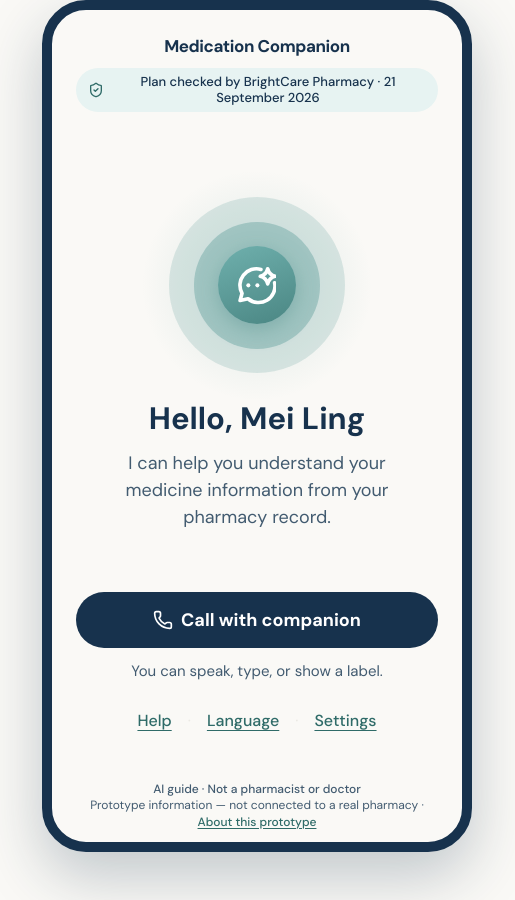
Test: in-call flow › 'I take it twice a day' asks which medicine — it never assumes
Click the button "Call with companion": [257, 620] box [76,592,438,648]
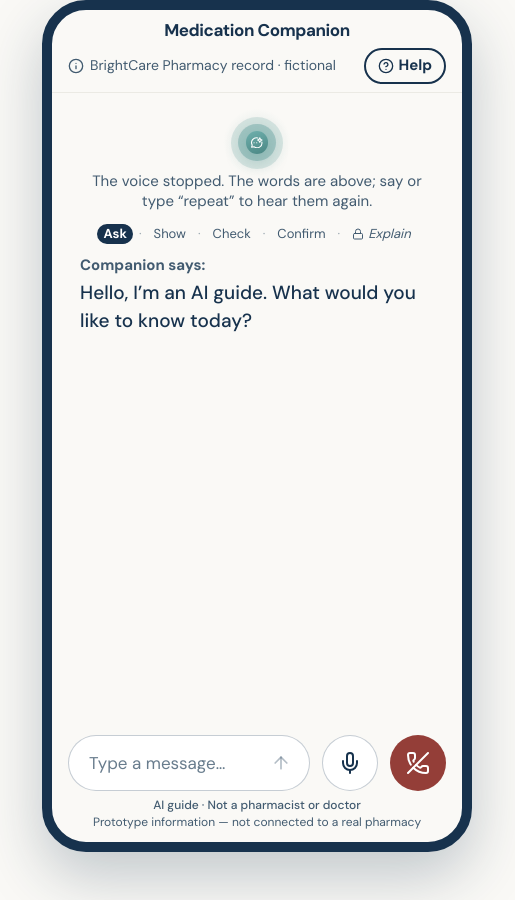
In the field labelled "Type a message…": [171, 763] box [89,736,253,790], type "I take it twice a day"
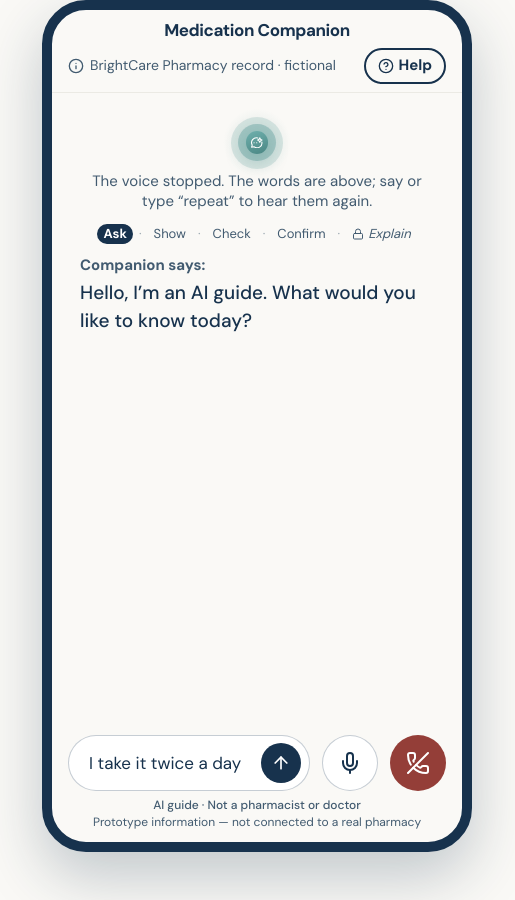
Submit the form named "type a message", box [68,735,310,791]
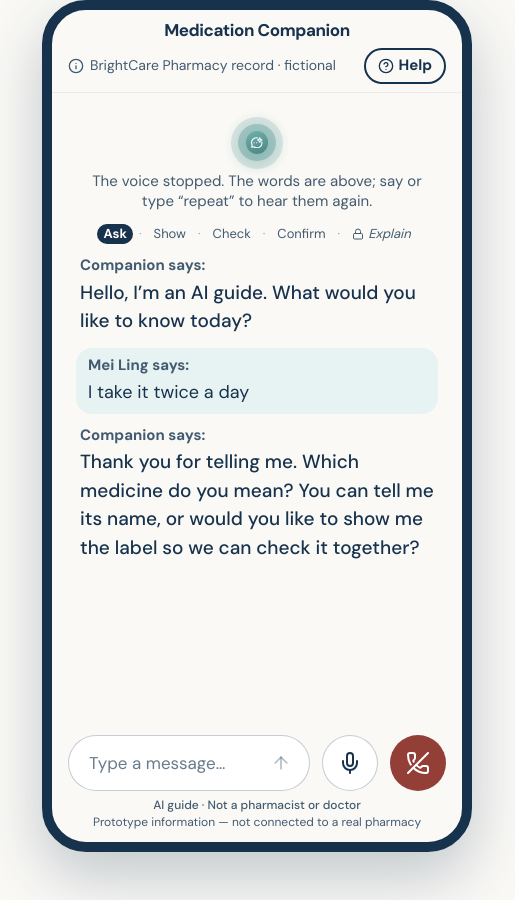
Now the text "Which medicine do you mean?" is shown, box [80,449,434,560]
